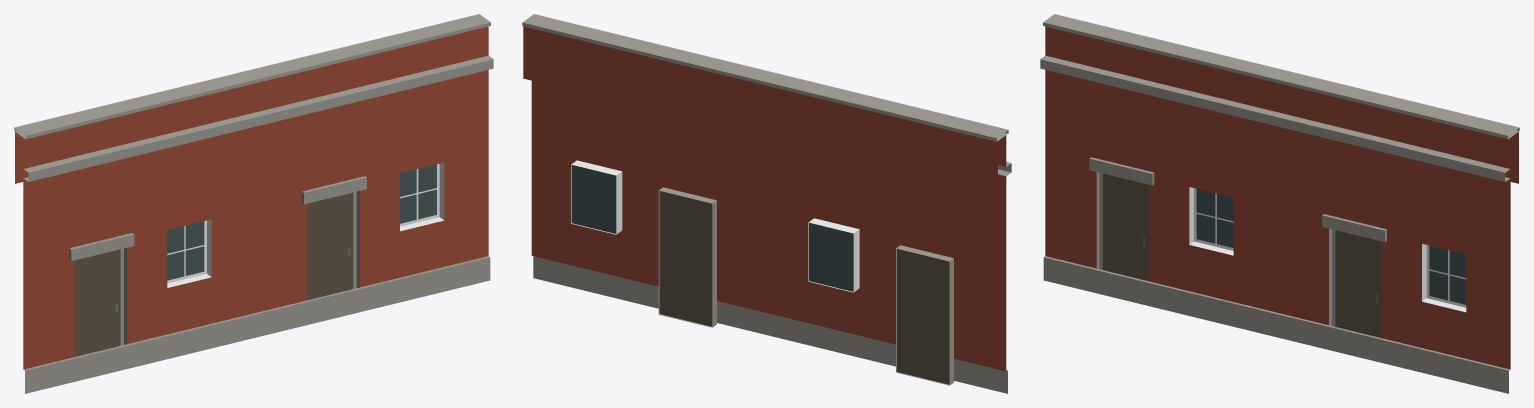
The picture shows the model from 3 angles, left to right: view 1: azimuth 30°, elevation 25°; view 2: azimuth 150°, elevation 25°; view 3: azimuth 330°, elevation 25°; orthographic projection. The views are drawn at different scales.
Parts seen in each view (by area): view 1: a2003/700/base-w3; view 2: a2003/700/base-w3; view 3: a2003/700/base-w3.
Part boxes in pixels (x1,y1,x2,y2): a2003/700/base-w3: (14,14,493,393); a2003/700/base-w3: (522,14,1011,393); a2003/700/base-w3: (1040,14,1519,393).
Size of the model in its own units: 8.4 by 4.46 by 0.45.
